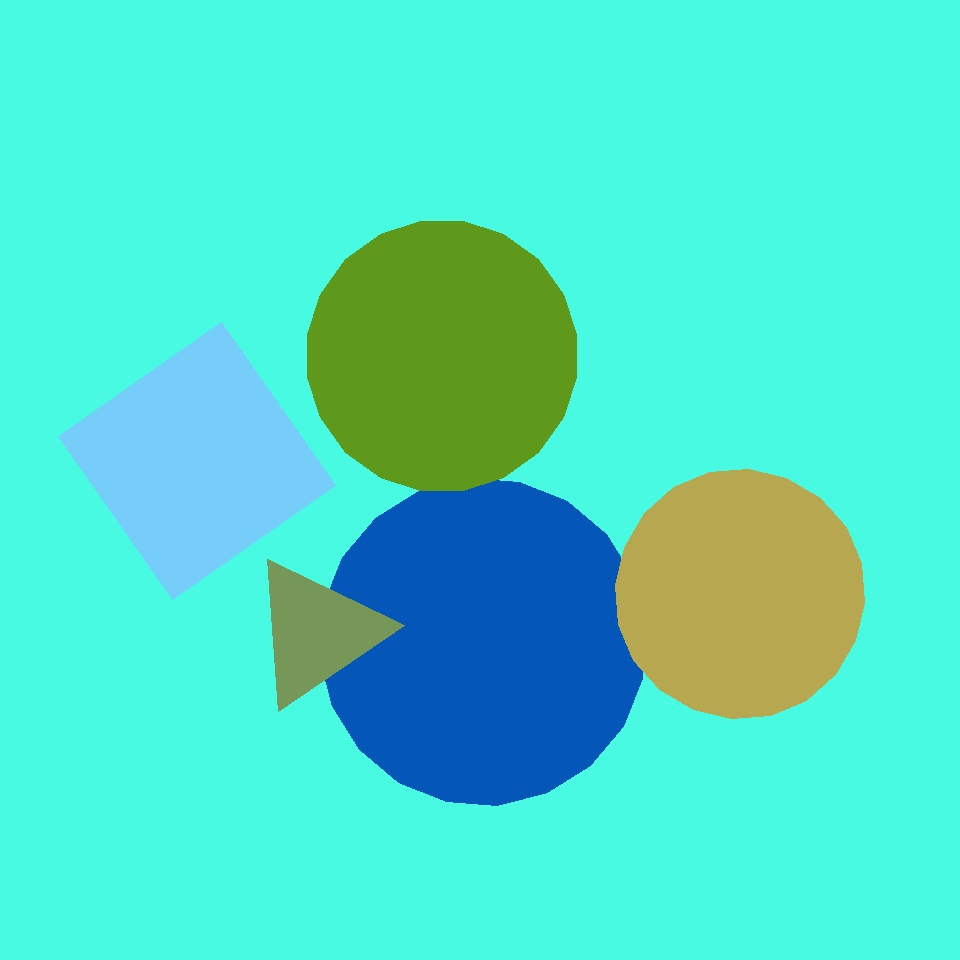circle: (248, 556, 386, 708)
square: (59, 322, 336, 600), (308, 222, 567, 481), (210, 362, 450, 602), (395, 527, 577, 709), (350, 444, 517, 612), (249, 212, 362, 325)
triangle: (320, 478, 646, 805), (308, 222, 576, 491), (616, 470, 865, 719), (93, 133, 206, 247)
